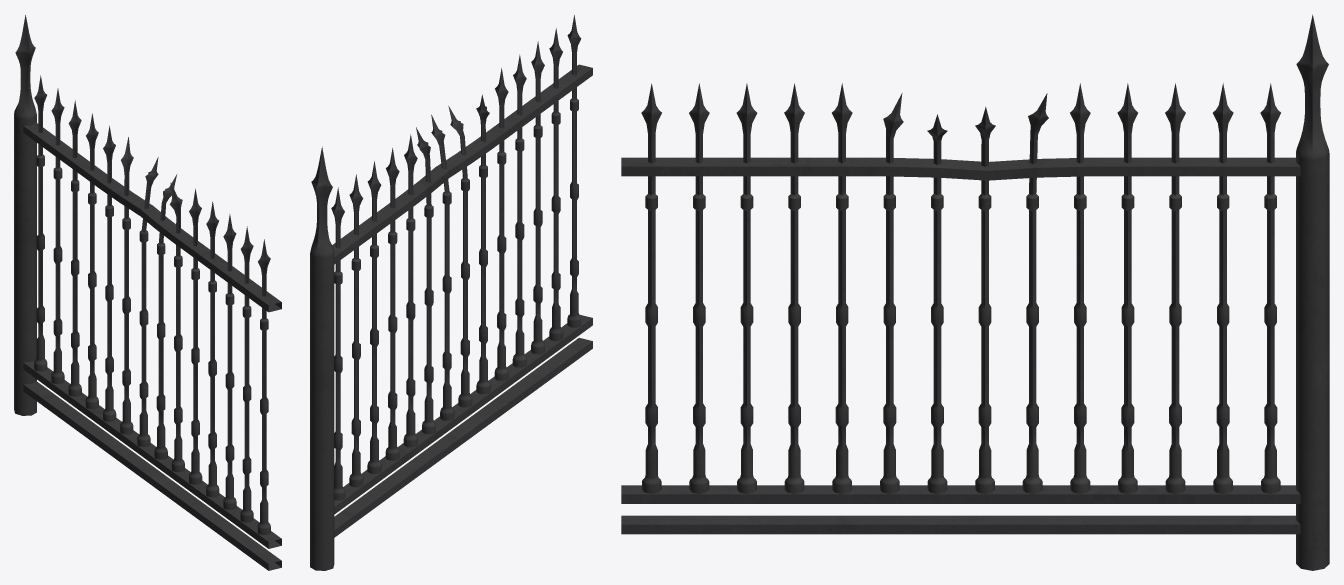
The model's file is SM_RailingA.fbx.
3 views of the same model, side by side, from view 1: azimuth 30°, elevation 25°; view 2: azimuth 150°, elevation 25°; view 3: azimuth 270°, elevation 25° (orthographic). The views are drawn at different scales.
Visible parts, largest first — view 1: SM_RailingA_LOD0; view 2: SM_RailingA_LOD0; view 3: SM_RailingA_LOD0.
Part boxes in pixels (left/top/right/bottom): SM_RailingA_LOD0: left=14, top=15, right=281, bottom=570; SM_RailingA_LOD0: left=310, top=15, right=592, bottom=570; SM_RailingA_LOD0: left=621, top=14, right=1329, bottom=570.
Size of the model in its own units: 12.15 by 201 by 173.
1 material, 1 textured.
